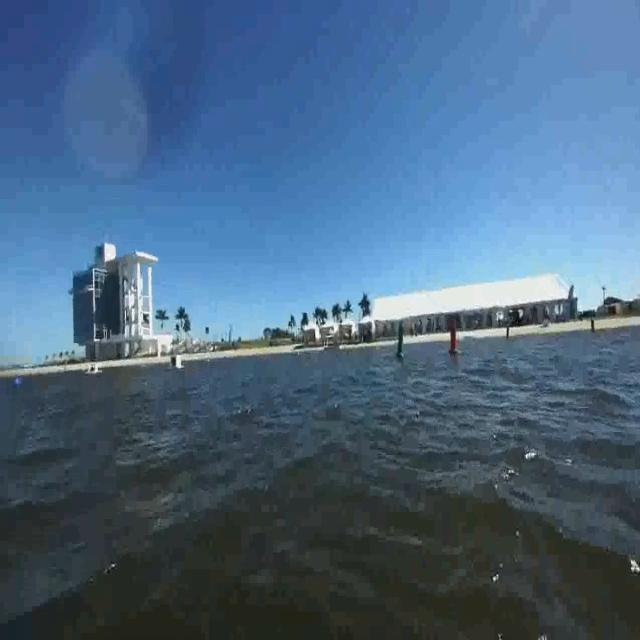green-column-buoy: (397, 325, 409, 368)
red-column-buoy: (449, 316, 465, 358)
